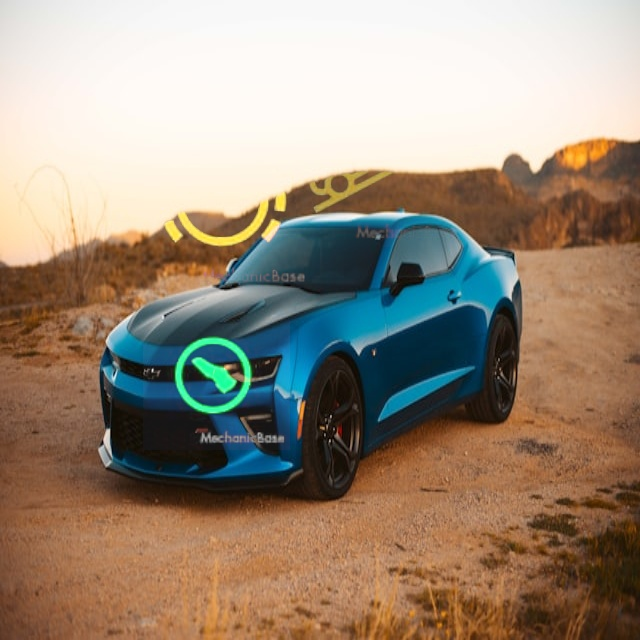symbol: (131, 110, 312, 291), (287, 70, 464, 247), (143, 303, 290, 450)
